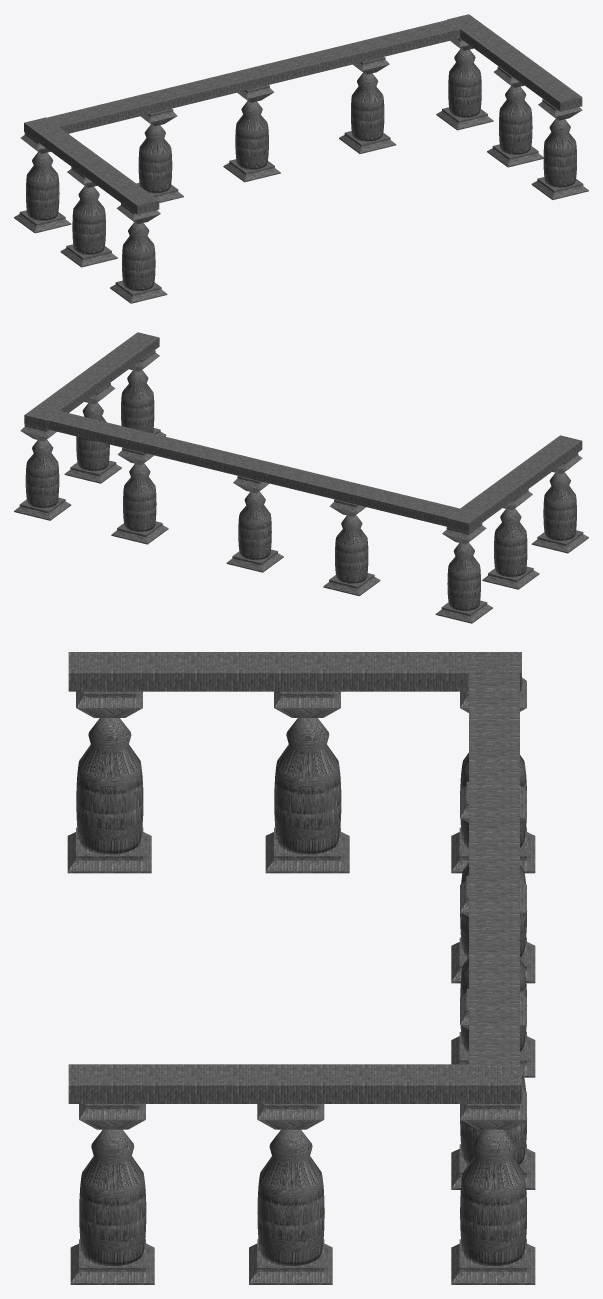
The model's file is Castle Balcony Brick.obj.
3 renders of one model, top to bottom at view 1: azimuth 30°, elevation 25°; view 2: azimuth 150°, elevation 25°; view 3: azimuth 270°, elevation 25°, orthographic. The views are drawn at different scales.
Visible parts, largest first — view 1: Torus, Cube (4), Cube (2), Cube (3); view 2: Torus, Cube (4), Cube (2), Cube (3); view 3: Torus, Cube (2), Cube (3), Cube (4).
Boxes of the visible parts, box(x1,y1,x2,y2) form: Torus: box(26, 49, 576, 290); Cube (4): box(25, 15, 479, 133); Cube (2): box(14, 14, 588, 303); Cube (3): box(21, 38, 582, 224); Torus: box(25, 370, 576, 611); Cube (4): box(35, 405, 480, 526); Cube (2): box(14, 332, 588, 623); Cube (3): box(20, 350, 582, 544); Torus: box(76, 718, 527, 1265); Cube (2): box(67, 827, 535, 1284); Cube (3): box(68, 652, 526, 1129); Cube (4): box(469, 652, 519, 1085).
Bounding box in the file's own units: 25.22 × 5.06 × 11.15.
1 material, 1 textured.
